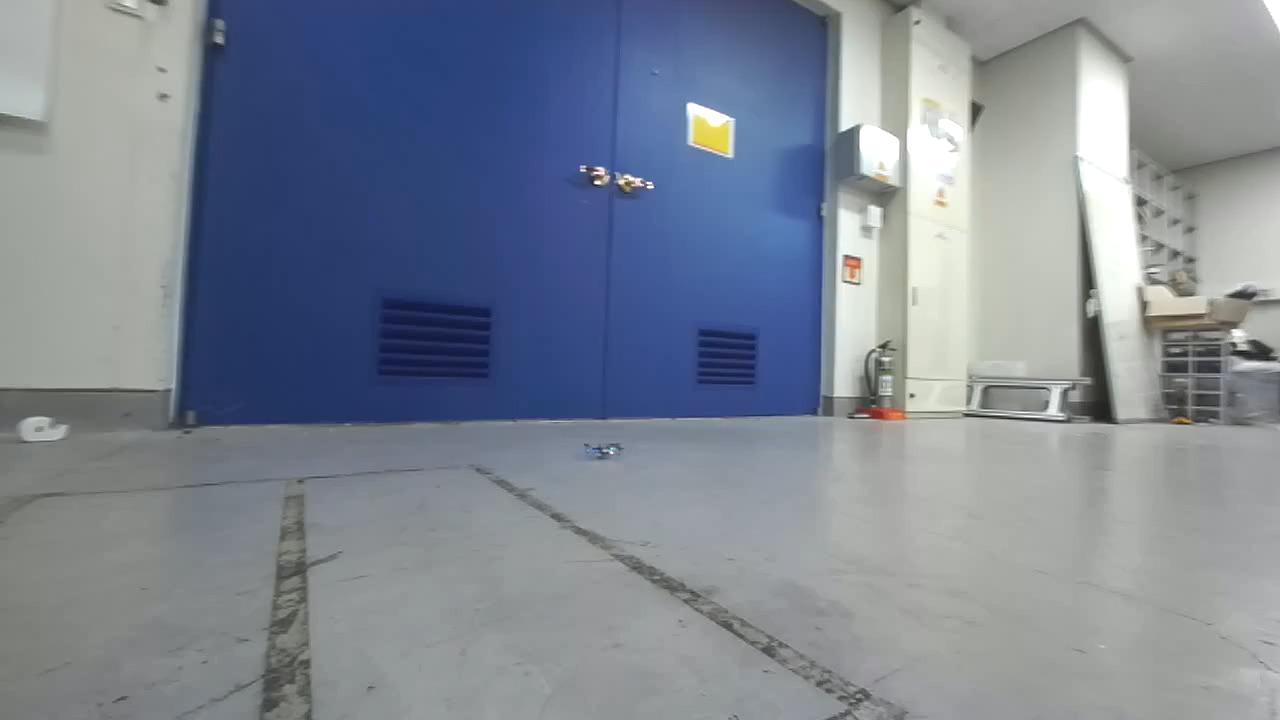crazyflie: (576, 436, 635, 467)
